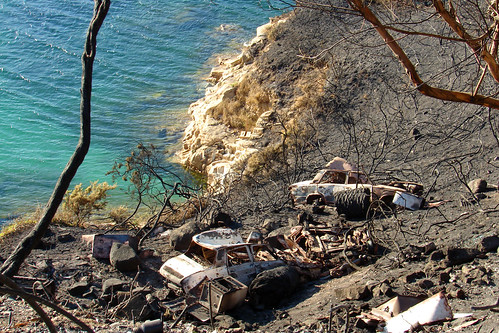sea: (1, 1, 243, 189)
trash: (76, 170, 473, 333)
tree: (1, 1, 144, 302), (330, 2, 499, 120)
